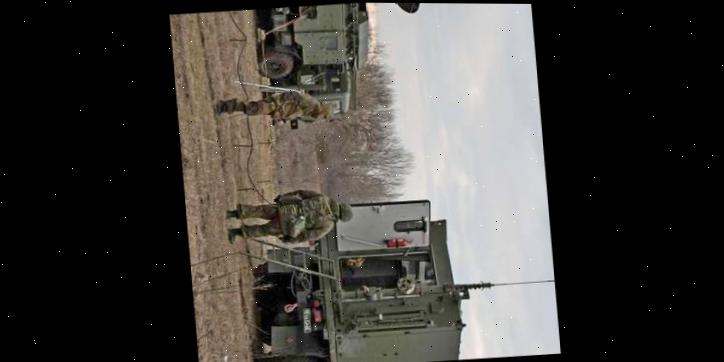truck: (240, 179, 477, 362), (252, 2, 534, 127)
